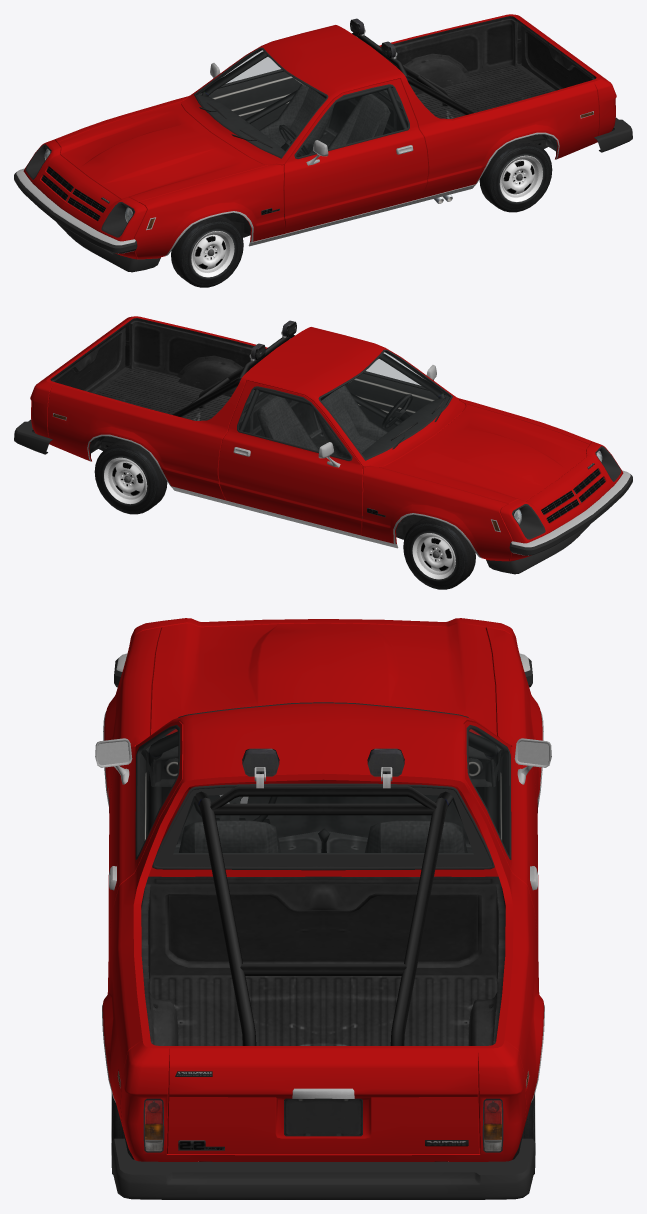
3 views of the same model, one above another, from view 1: azimuth 30°, elevation 25°; view 2: azimuth 150°, elevation 25°; view 3: azimuth 270°, elevation 25° (orthographic). The views are drawn at different scales.
Parts seen in each view (by area): view 1: Body_Bodycolour_0, HOOD_Bodycolour_0, DOOR_FL_Bodycolour_0, Trunkbed_UCB_BOTTOM_0, FENDER_FL_Bodycolour_0, Windshield_UCB_GLASS_CLEAN_0, Wheel_RL_RIMSTOCK_02_1_0, Wheel_FL_RIMSTOCK_02_1_0, GLASS_DOOR_FL_UCB_GLASS_CLEAN_0, GRILL_PLATE_Bodycolour_0, ROLLCAGE_UCB_BOTTOM_0, Doorcard_FR_lasley67_interior_0 (+16 smaller); view 2: Body_Bodycolour_0, HOOD_Bodycolour_0, DOOR_FR_Bodycolour_0, Trunkbed_UCB_BOTTOM_0, FENDER_FR_Bodycolour_0, Windshield_UCB_GLASS_CLEAN_0, Wheel_RR_RIMSTOCK_02_1_0, Wheel_FR_RIMSTOCK_02_1_0, GLASS_DOOR_FR_UCB_GLASS_CLEAN_0, GRILL_PLATE_Bodycolour_0, ROLLCAGE_UCB_BOTTOM_0, Bottom_UCB_BOTTOM_0 (+17 smaller); view 3: Trunkbed_UCB_BOTTOM_0, Body_Bodycolour_0, DOOR_TRUNK_Bodycolour_0, HOOD_Bodycolour_0, ROLLCAGE_UCB_BOTTOM_0, BUMPER_REAR_UCB_BOTTOM_0, GLASS_REAR_UCB_GLASS_CLEAN_0, Bottom_UCB_BOTTOM_0, INTERIOR_UCB_BOTTOM_0, FENDER_FL_Bodycolour_0, FENDER_FR_Bodycolour_0, DOOR_FL_Bodycolour_0 (+15 smaller).
Part boxes in pixels (x1,y1,x2,y2): Body_Bodycolour_0: (181,14,616,198); HOOD_Bodycolour_0: (57,102,267,201); DOOR_FL_Bodycolour_0: (283,78,428,233); Trunkbed_UCB_BOTTOM_0: (385,16,596,118); FENDER_FL_Bodycolour_0: (134,164,285,259); Windshield_UCB_GLASS_CLEAN_0: (196,49,325,155); Wheel_RL_RIMSTOCK_02_1_0: (479,137,552,212); Wheel_FL_RIMSTOCK_02_1_0: (171,215,243,287); GLASS_DOOR_FL_UCB_GLASS_CLEAN_0: (297,87,407,156); GRILL_PLATE_Bodycolour_0: (23,139,146,259); ROLLCAGE_UCB_BOTTOM_0: (201,18,474,132); Doorcard_FR_lasley67_interior_0: (199,71,300,130); Body_Bodycolour_0: (30,316,465,500); HOOD_Bodycolour_0: (379,404,589,503); DOOR_FR_Bodycolour_0: (218,380,363,535); Trunkbed_UCB_BOTTOM_0: (50,318,261,420); FENDER_FR_Bodycolour_0: (361,466,512,561); Windshield_UCB_GLASS_CLEAN_0: (321,351,450,457); Wheel_RR_RIMSTOCK_02_1_0: (94,439,167,514); Wheel_FR_RIMSTOCK_02_1_0: (403,517,475,589); GLASS_DOOR_FR_UCB_GLASS_CLEAN_0: (239,389,349,458); GRILL_PLATE_Bodycolour_0: (500,441,623,561); ROLLCAGE_UCB_BOTTOM_0: (172,320,445,434); Bottom_UCB_BOTTOM_0: (53,349,609,539); Trunkbed_UCB_BOTTOM_0: (141,876,505,1045); Body_Bodycolour_0: (102,703,544,1161); DOOR_TRUNK_Bodycolour_0: (167,1046,479,1153); HOOD_Bodycolour_0: (150,623,496,735); ROLLCAGE_UCB_BOTTOM_0: (148,731,498,1045); BUMPER_REAR_UCB_BOTTOM_0: (111,1138,535,1199); GLASS_REAR_UCB_GLASS_CLEAN_0: (174,795,472,852); Bottom_UCB_BOTTOM_0: (102,702,544,1102); INTERIOR_UCB_BOTTOM_0: (147,736,499,866); FENDER_FL_Bodycolour_0: (104,627,161,804); FENDER_FR_Bodycolour_0: (485,627,542,804); DOOR_FL_Bodycolour_0: (108,721,183,942).
Bounding box in the file's own units: 470 × 139 × 175.
7 materials, 6 textured.
